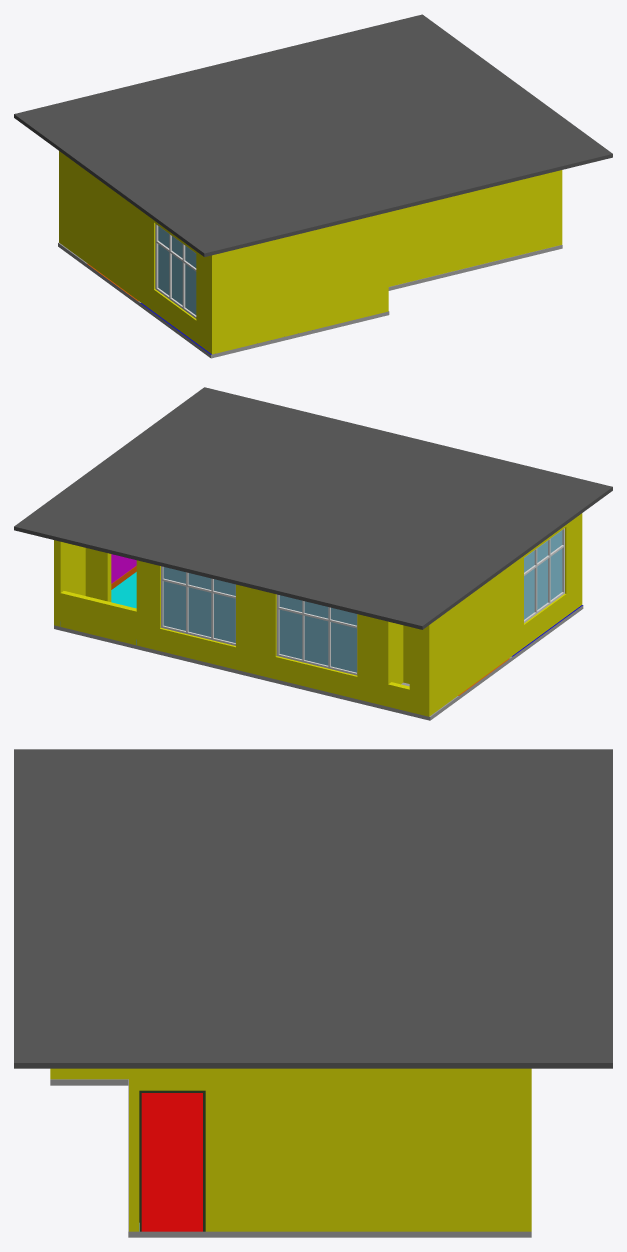
Rendered from Wing_A_Flat_No_01_Type01_MatID.fbx.
The picture shows the model from 3 angles, top to bottom: view 1: azimuth 30°, elevation 25°; view 2: azimuth 150°, elevation 25°; view 3: azimuth 270°, elevation 25°; orthographic projection. The views are drawn at different scales.
Visible parts, largest first — view 1: Roof, walls, Floor, Flat_No_03_Type03:Glass1, Flat_No_03_Type03:Window_Frame; view 2: Roof, walls, Glass1 (×2), Floor, Window_Frame (×2), Flat_No_03_Type03:Glass1, Flat_No_03_Type03:Window_Frame; view 3: Roof, walls, Floor, Flat_No_03_Type03:pCube7.
Boxes of the visible parts, x1,y1,x2,y2 form: Roof: (14,14,612,257); walls: (59,151,562,354); Floor: (58,242,562,358); Flat_No_03_Type03:Glass1: (158,226,196,314); Flat_No_03_Type03:Window_Frame: (155,223,196,318); Roof: (14,387,612,629); walls: (54,513,582,716); Glass1 (×2): (163,567,356,672); Floor: (54,572,583,720); Window_Frame (×2): (161,566,357,675); Flat_No_03_Type03:Glass1: (524,530,562,619); Flat_No_03_Type03:Window_Frame: (524,528,564,622); Roof: (14,749,612,1068); walls: (50,1068,531,1231); Floor: (50,1079,531,1237); Flat_No_03_Type03:pCube7: (139,1090,205,1231).
Size of the model in its own units: 1146 by 316 by 925.
